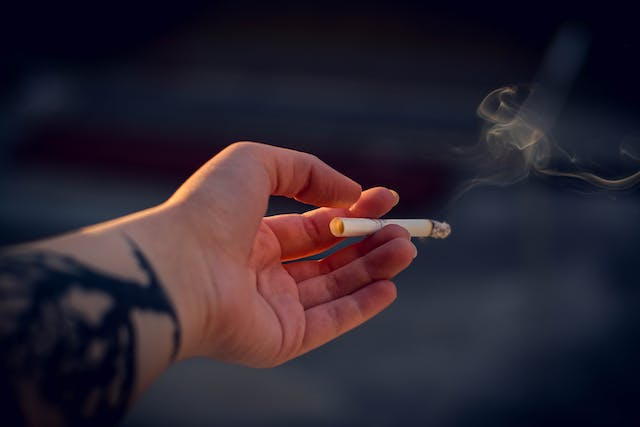Cigarette: (329, 217, 454, 240)
